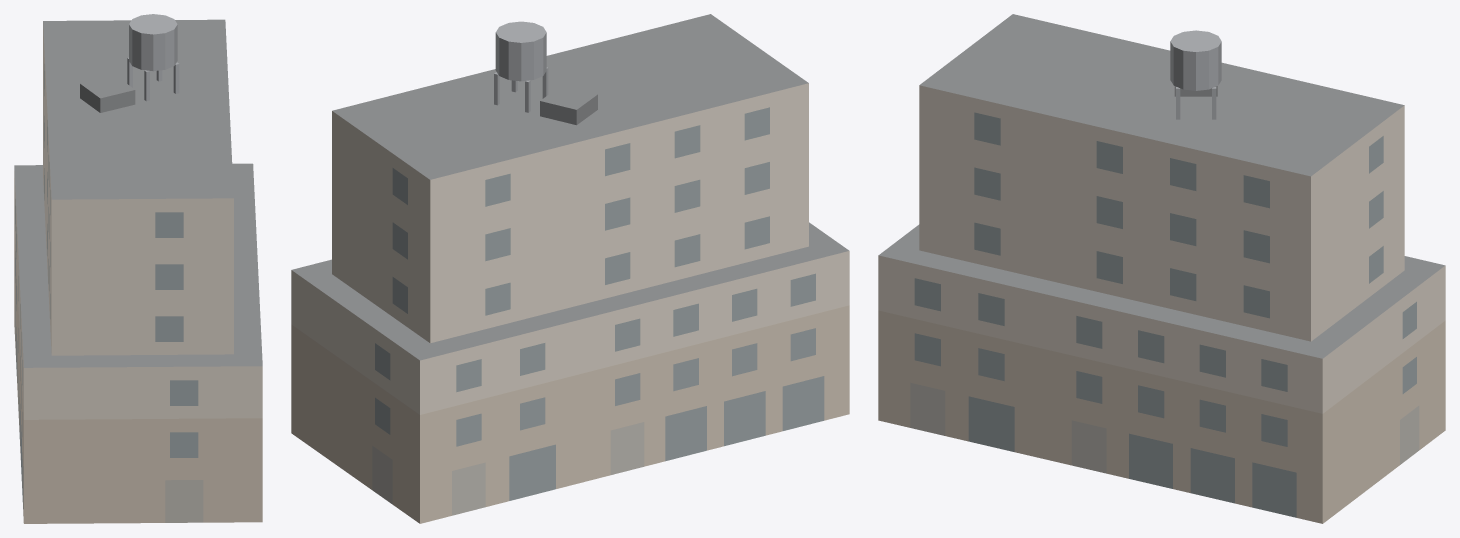
Rendered from doitt-460555__lod_1.glb.
3 views of the same model, side by side, from view 1: azimuth 30°, elevation 25°; view 2: azimuth 150°, elevation 25°; view 3: azimuth 270°, elevation 25° (orthographic). The views are drawn at different scales.
Size of the model in its own units: 27.98 by 26.52 by 34.06.
